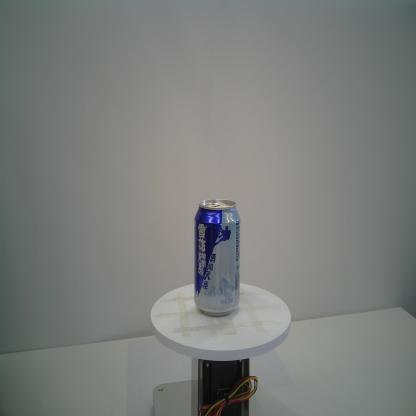Alcohol: (192, 196, 244, 320)
